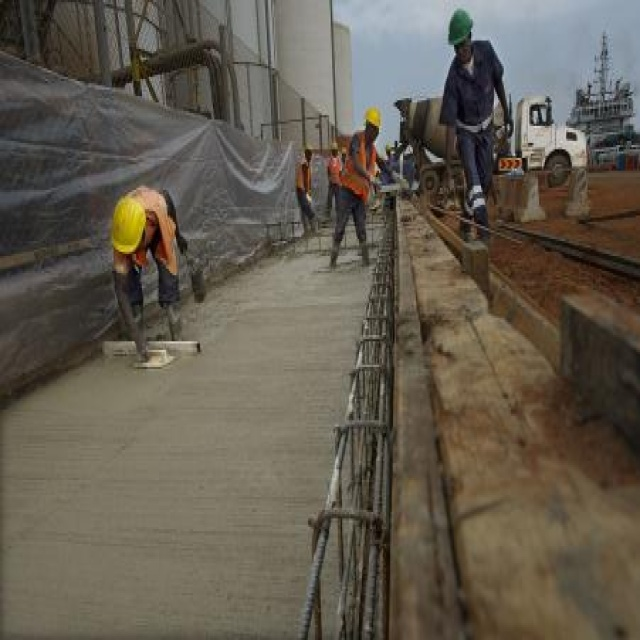Helmet: (100, 189, 151, 263), (441, 2, 478, 71), (360, 101, 388, 143)
